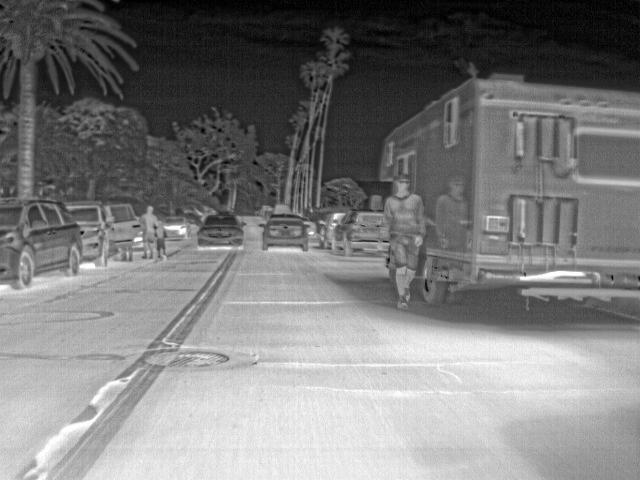car: (0, 196, 82, 291), (59, 200, 141, 268), (337, 208, 384, 256), (196, 212, 245, 251), (260, 214, 311, 251), (317, 213, 346, 249), (163, 214, 191, 239), (304, 220, 319, 250)
person: (385, 174, 424, 310), (140, 204, 157, 260), (156, 220, 169, 264)
